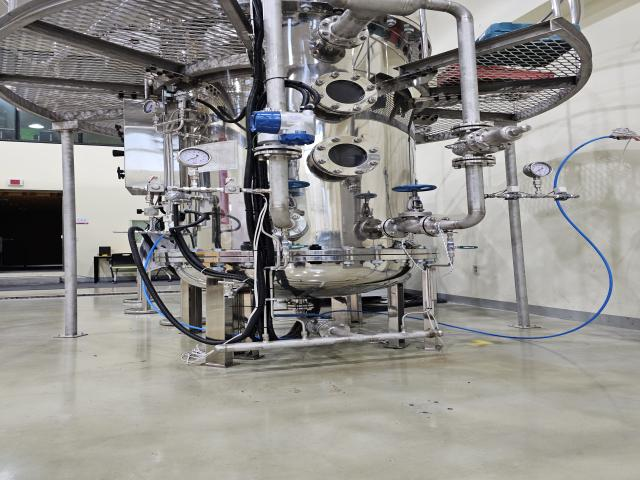Flange: (310, 72, 378, 115), (314, 137, 382, 176)
Flush Ring: (318, 15, 374, 49), (262, 213, 310, 237), (250, 145, 305, 161), (419, 213, 453, 237), (317, 321, 354, 343), (450, 122, 496, 136), (381, 218, 411, 238), (450, 156, 496, 169)
GasRegulator: (144, 92, 216, 142)
Nuts: (549, 190, 576, 202), (222, 185, 246, 196), (147, 182, 168, 194), (502, 192, 526, 202)
Piston Valve: (390, 182, 440, 214), (289, 178, 313, 210)
Pressure Gage: (175, 146, 214, 188), (522, 162, 554, 194)
